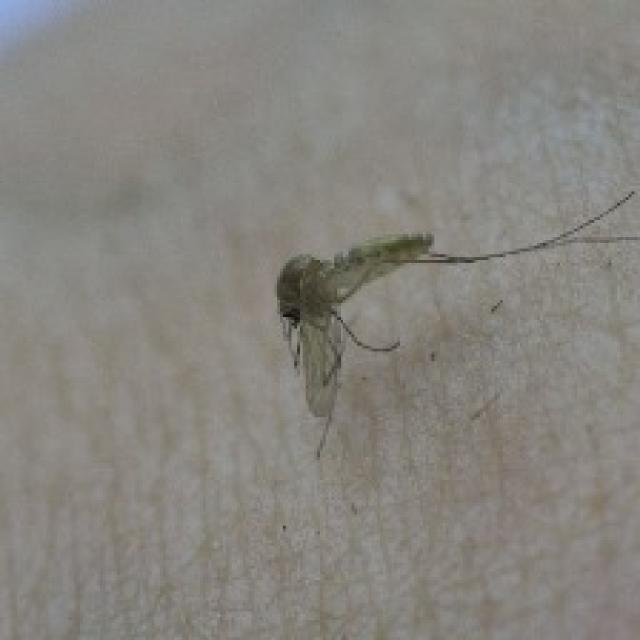culex: (272, 186, 637, 457)
